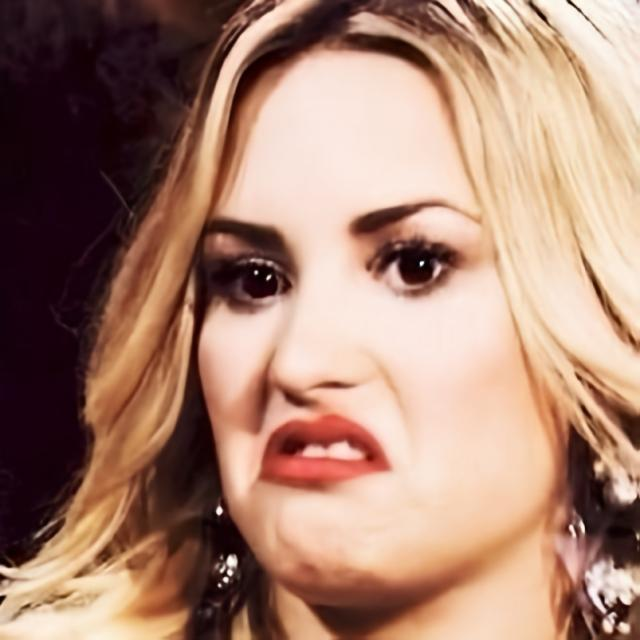disgust: (193, 34, 569, 608)
